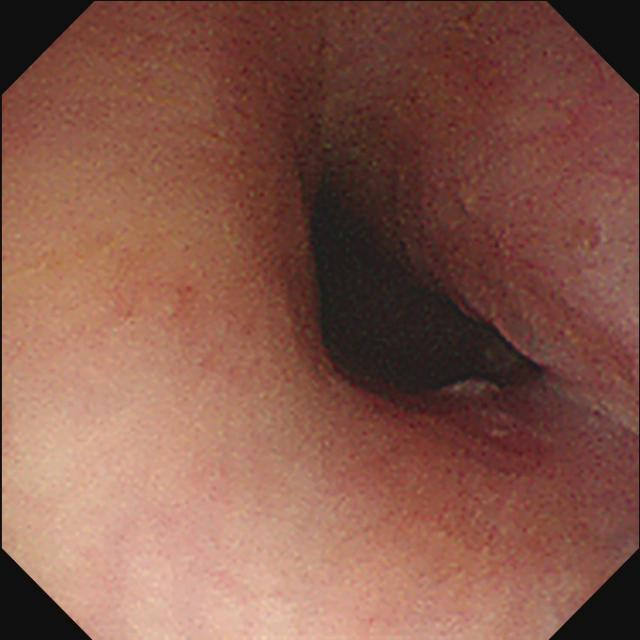E: (308, 184, 546, 401)
